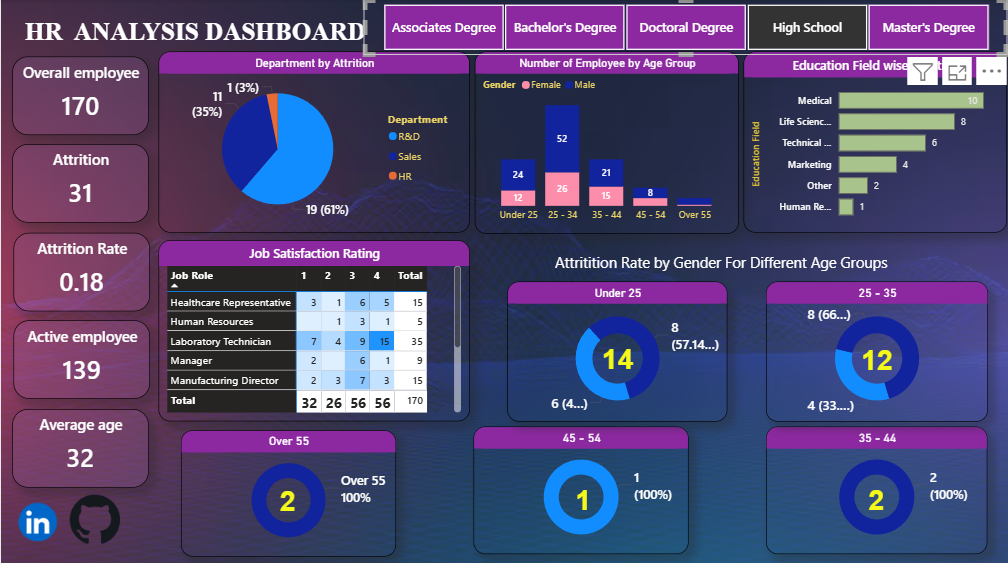

What the dashboard file says about the page in this screenshot:
{"tool":"powerbi","page":{"name":"Page 1","canvas":[1280,720],"ordinal":0},"visuals":[{"type":"card","title":"Overall employee","fields":{"Values":["Sum(HR data.Employee Count)"]},"box":[14.3,73.1,173.3,100],"z":0},{"type":"card","title":"Attrition","fields":{"Values":["Sum(HR data.Attition count)"]},"box":[14.3,185.2,173.3,100],"z":1000},{"type":"card","title":"Attrition Rate","fields":{"Values":["HR data.attrition rate"]},"box":[15.9,297.3,173.3,100],"z":2000},{"type":"card","title":"Active employee","fields":{"Values":["HR data.New employees"]},"box":[15.9,409.4,173.3,100],"z":3000},{"type":"card","title":"Average age","fields":{"Values":["Avg(HR data.Age)"]},"box":[14.3,521.4,173.2,100],"z":4000},{"type":"textbox","box":[25.4,17.5,453.2,66.8],"z":5000},{"type":"pieChart","title":"Department by Attrition","fields":{"Category":["HR data.Department"],"Y":["Sum(HR data.Attition count)"]},"box":[200.4,66.8,395.9,230.6],"z":6000},{"type":"columnChart","title":"Number of Employee by Age Group","fields":{"Category":["HR data.CF_age band"],"Y":["Sum(HR data.Employee Count)"],"Series":["HR data.Gender"]},"box":[602.5,66.1,335.7,232.1],"z":7000},{"type":"pivotTable","title":"Job Satisfaction Rating","fields":{"Rows":["HR data.Job Role"],"Columns":["HR data.Job Satisfaction"],"Values":["Sum(HR data.Employee Count)"]},"box":[200.4,306.9,395.9,230.6],"z":8000},{"type":"barChart","title":"Education Field wise Attrition","fields":{"Category":["HR data.Education Field"],"Y":["Sum(HR data.Attition count)"]},"box":[944.5,66.8,335.5,230.6],"z":9000},{"type":"donutChart","title":"35 - 44","fields":{"Category":["HR data.Gender"],"Y":["Sum(HR data.Attition count)"],"Series":["HR data.CF_age band"]},"box":[973.2,543.8,281.5,162.2],"z":10000},{"type":"textbox","box":[699.7,318,472.3,38.2],"z":11000},{"type":"donutChart","title":"45 - 54","fields":{"Category":["HR data.Gender"],"Y":["Sum(HR data.Attition count)"],"Series":["HR data.CF_age band"]},"box":[600.7,543.8,273.5,162.2],"z":12000},{"type":"donutChart","title":"25 - 35","fields":{"Category":["HR data.Gender"],"Y":["Sum(HR data.Attition count)"],"Series":["HR data.CF_age band"]},"box":[973.2,358.9,282.1,178.6],"z":13000},{"type":"donutChart","title":"Over 55","fields":{"Category":["HR data.Gender"],"Y":["Sum(HR data.Attition count)"],"Series":["HR data.CF_age band"]},"box":[228.6,548.2,273.2,160.7],"z":14000},{"type":"donutChart","title":"Under 25","fields":{"Category":["HR data.Gender"],"Y":["Sum(HR data.Attition count)"],"Series":["HR data.CF_age band"]},"box":[644.6,358.9,280.4,178.6],"z":15000},{"type":"slicer","fields":{"Values":["HR data.Education"]},"box":[461.1,0,818.9,71.6],"z":16000},{"type":"advanceCardE03760C5AB684758B56AA29F9E6C257B","fields":{"mainMeasure":["Sum(HR data.Attition count)"]},"box":[741.1,423.2,87.5,71.4],"z":17000},{"type":"advanceCardE03760C5AB684758B56AA29F9E6C257B","fields":{"mainMeasure":["Sum(HR data.Attition count)"]},"box":[1026.8,557.1,173.2,162.5],"z":18000},{"type":"advanceCardE03760C5AB684758B56AA29F9E6C257B","fields":{"mainMeasure":["Sum(HR data.Attition count)"]},"box":[653.6,557.1,175,162.5],"z":19000},{"type":"advanceCardE03760C5AB684758B56AA29F9E6C257B","fields":{"mainMeasure":["Sum(HR data.Attition count)"]},"box":[1071.4,423.2,85.7,73.2],"z":20000},{"type":"image","box":[14.3,619.6,65,90],"z":21000},{"type":"image","box":[87.5,625,64.3,75],"z":22000},{"type":"advanceCardE03760C5AB684758B56AA29F9E6C257B","fields":{"mainMeasure":["Sum(HR data.Attition count)"]},"box":[300.9,587.8,128.3,102.6],"z":23000}]}

Visuals, with their boxes in screenshot pixels (x1, y1, x2, y2), scaled from the page's 1280x720 canvas onto the 1008x563 screenshot:
"Overall employee" card: 11,57,148,135
"Attrition" card: 11,145,148,223
"Attrition Rate" card: 13,232,149,311
"Active employee" card: 13,320,149,398
"Average age" card: 11,408,148,486
textbox: 20,14,377,66
"Department by Attrition" pieChart: 158,52,470,233
"Number of Employee by Age Group" columnChart: 474,52,739,233
"Job Satisfaction Rating" pivotTable: 158,240,470,420
"Education Field wise Attrition" barChart: 744,52,1007,233
"35 - 44" donutChart: 766,425,988,552
textbox: 551,249,923,279
"45 - 54" donutChart: 473,425,688,552
"25 - 35" donutChart: 766,281,989,420
"Over 55" donutChart: 180,429,395,554
"Under 25" donutChart: 508,281,728,420
slicer - HR data.Education: 363,0,1007,56
advanceCardE03760C5AB684758B56AA29F9E6C257B - Sum(HR data.Attition count): 584,331,653,387
advanceCardE03760C5AB684758B56AA29F9E6C257B - Sum(HR data.Attition count): 809,436,945,562
advanceCardE03760C5AB684758B56AA29F9E6C257B - Sum(HR data.Attition count): 515,436,653,562
advanceCardE03760C5AB684758B56AA29F9E6C257B - Sum(HR data.Attition count): 844,331,911,388
image: 11,484,62,555
image: 69,489,120,547
advanceCardE03760C5AB684758B56AA29F9E6C257B - Sum(HR data.Attition count): 237,460,338,540
